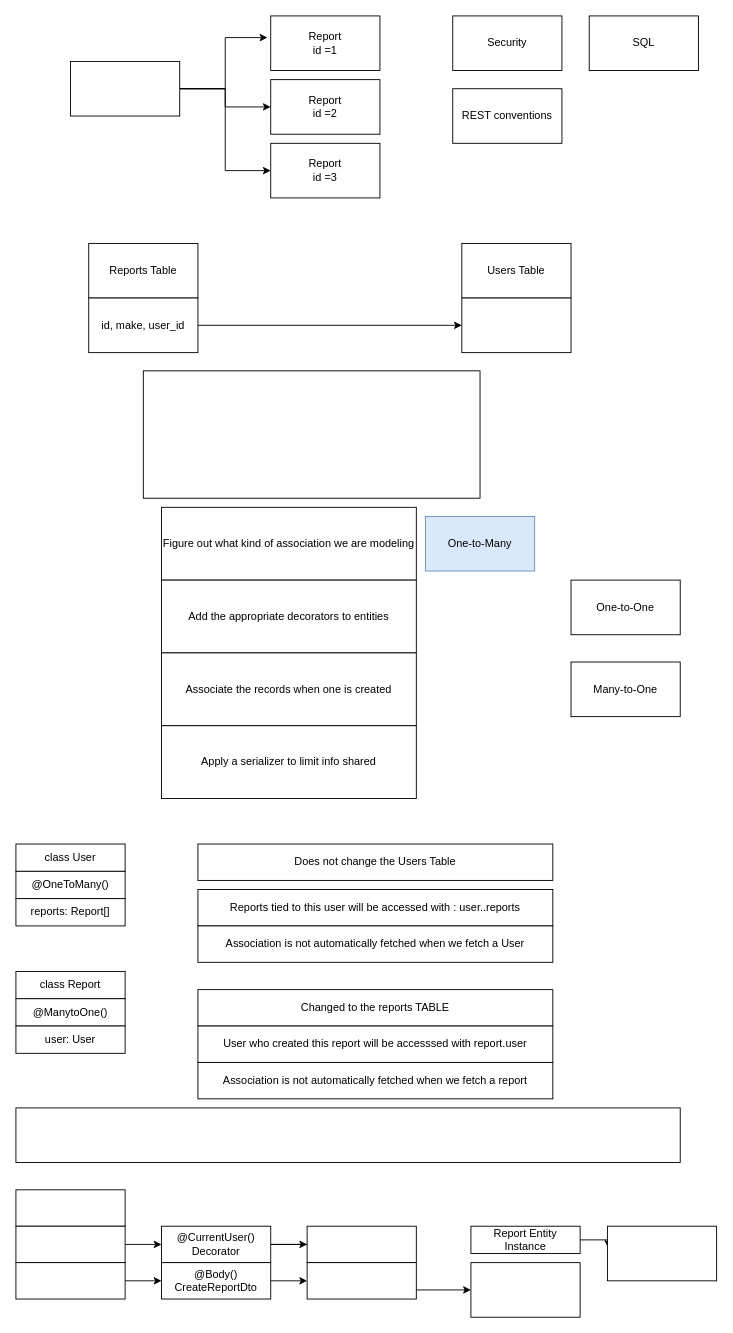
This 733x1333 diagram has some shape labels left out. The shapes that lost their labels are listed below. From the top down, each one's centre as x and y in pixels, then its label:
At (125,88): "User id = 1".
At (516,325): "id, email, password".
At (311,434): "Association with Nest and TypeORM".
At (347,1135): "Associate User when it is created".
At (70,1207): "POST /reports".
At (70,1244): "Cookie: asdf14".
At (361,1244): "user entity instance".
At (662,1253): "Reports Repo Save Method".
At (70,1280): "{year:1950, ...}".
At (361,1280): "Validated CreateReportDto".
At (525,1289): "user".
